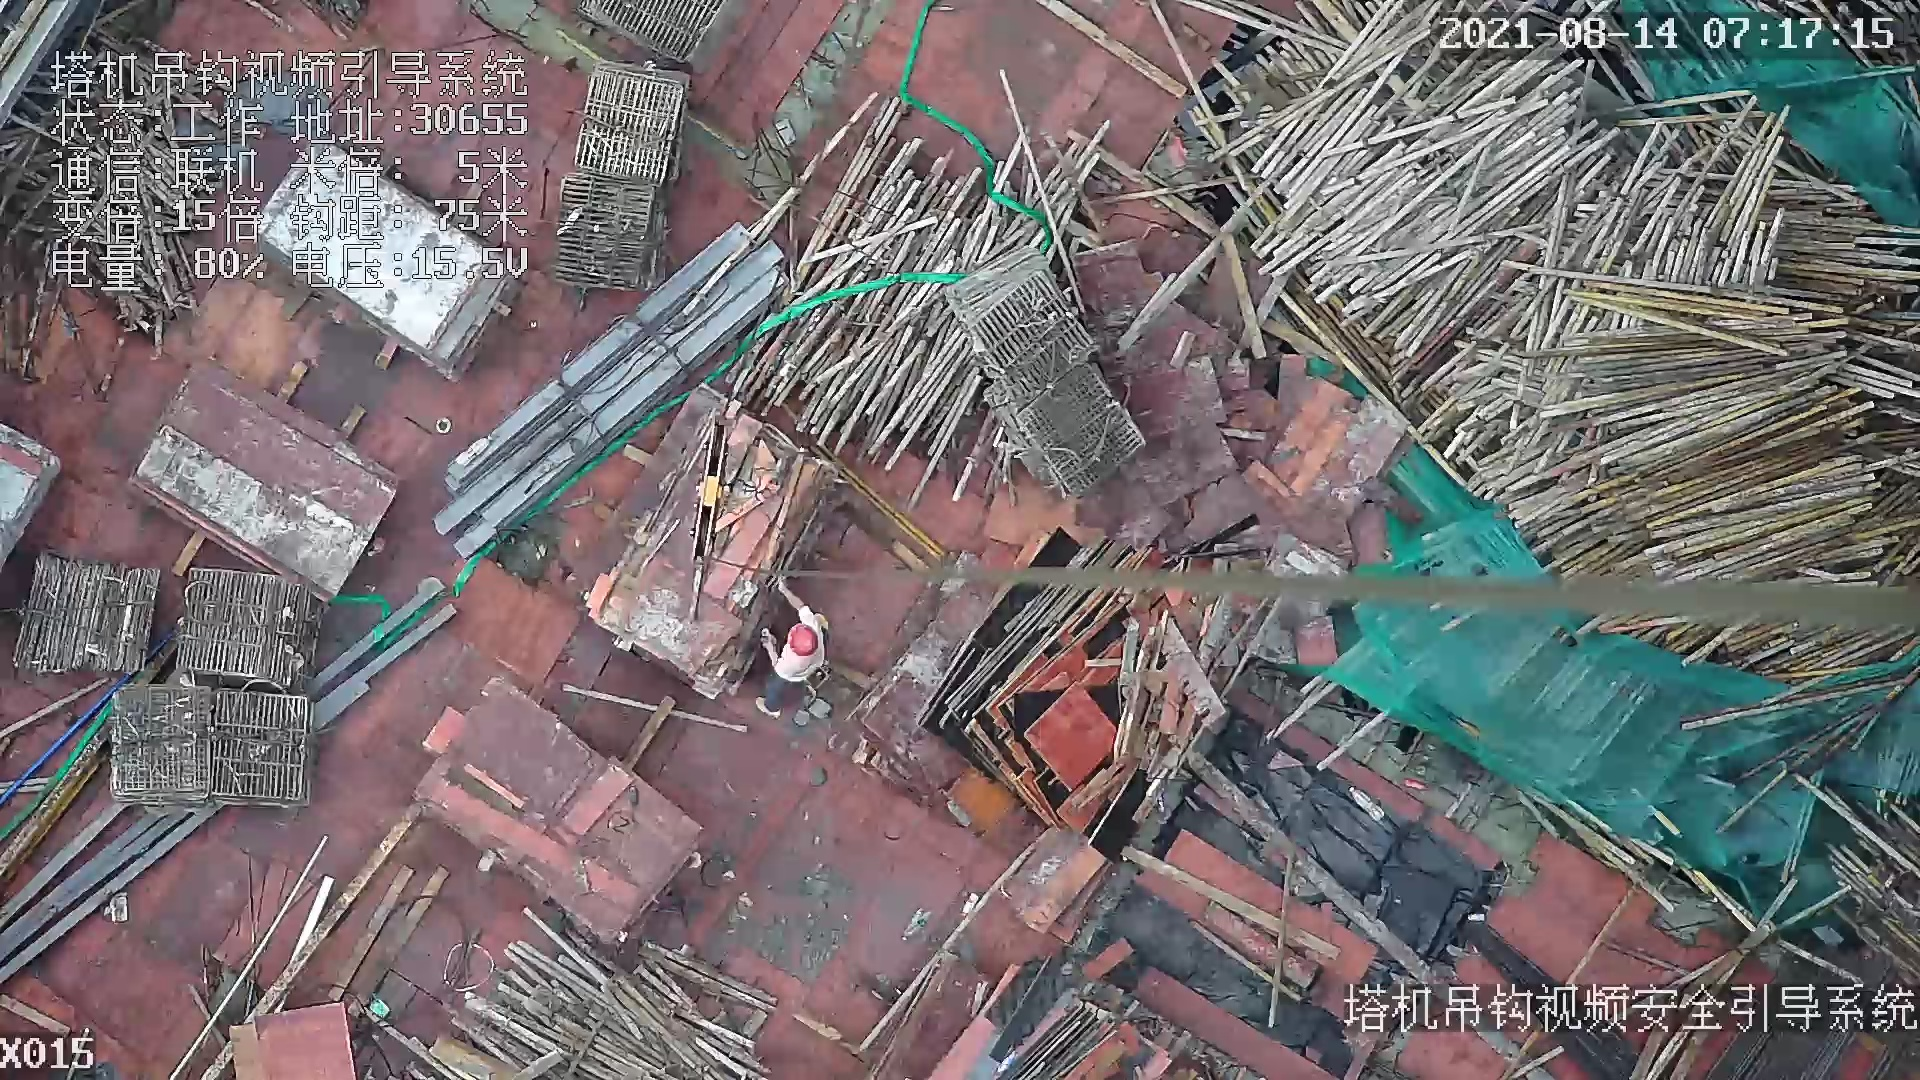helmet: (784, 624, 821, 657)
hook: (694, 415, 732, 568)
person: (764, 569, 829, 722)
